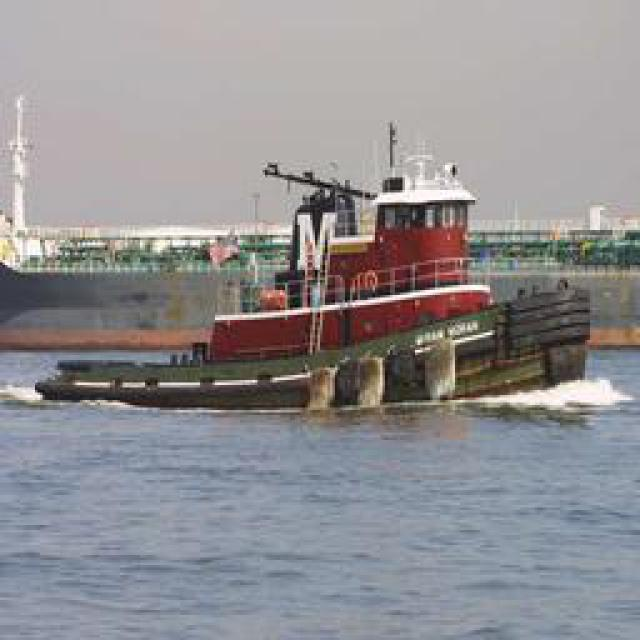Ship: (22, 124, 540, 407)
